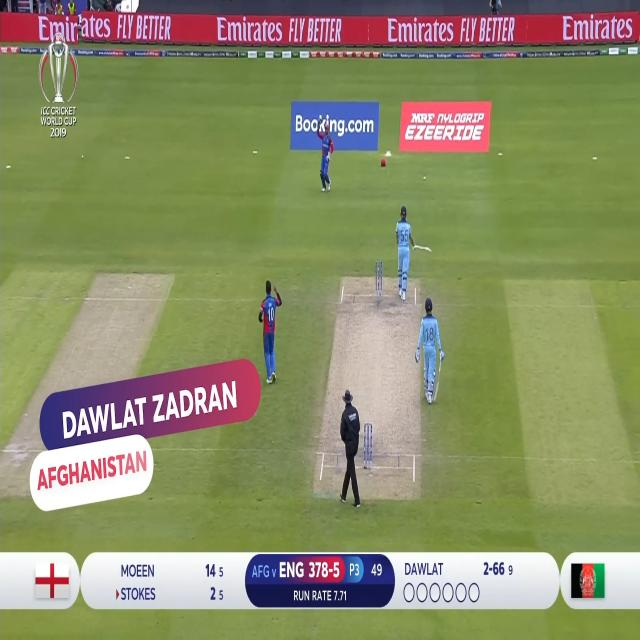ball: (80, 150, 86, 164)
